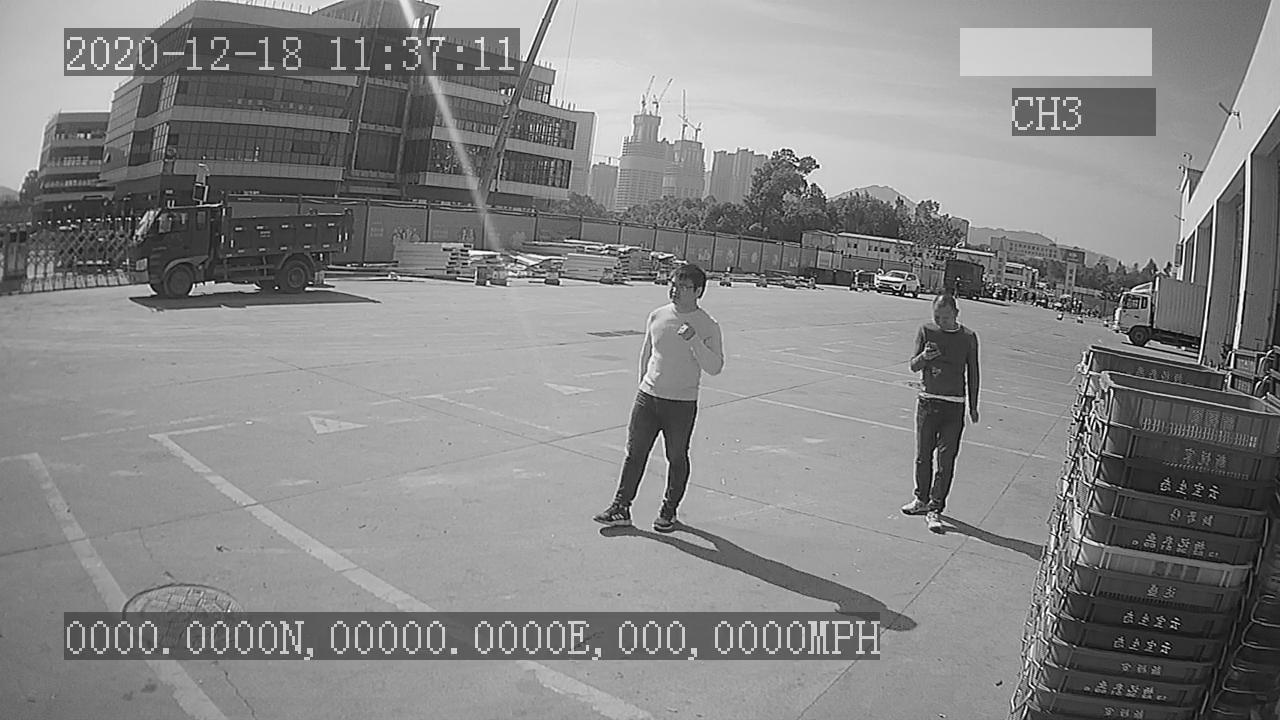person: (589, 260, 726, 532), (894, 285, 983, 535)
